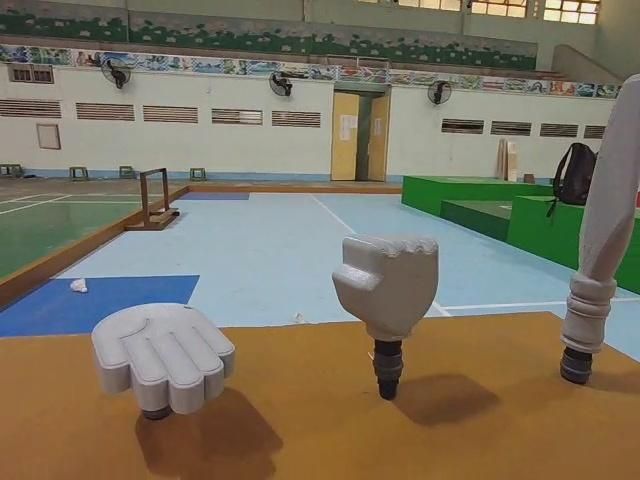Fist: (330, 230, 440, 400)
Hand: (90, 298, 233, 431)
Sph: (558, 66, 640, 389)
